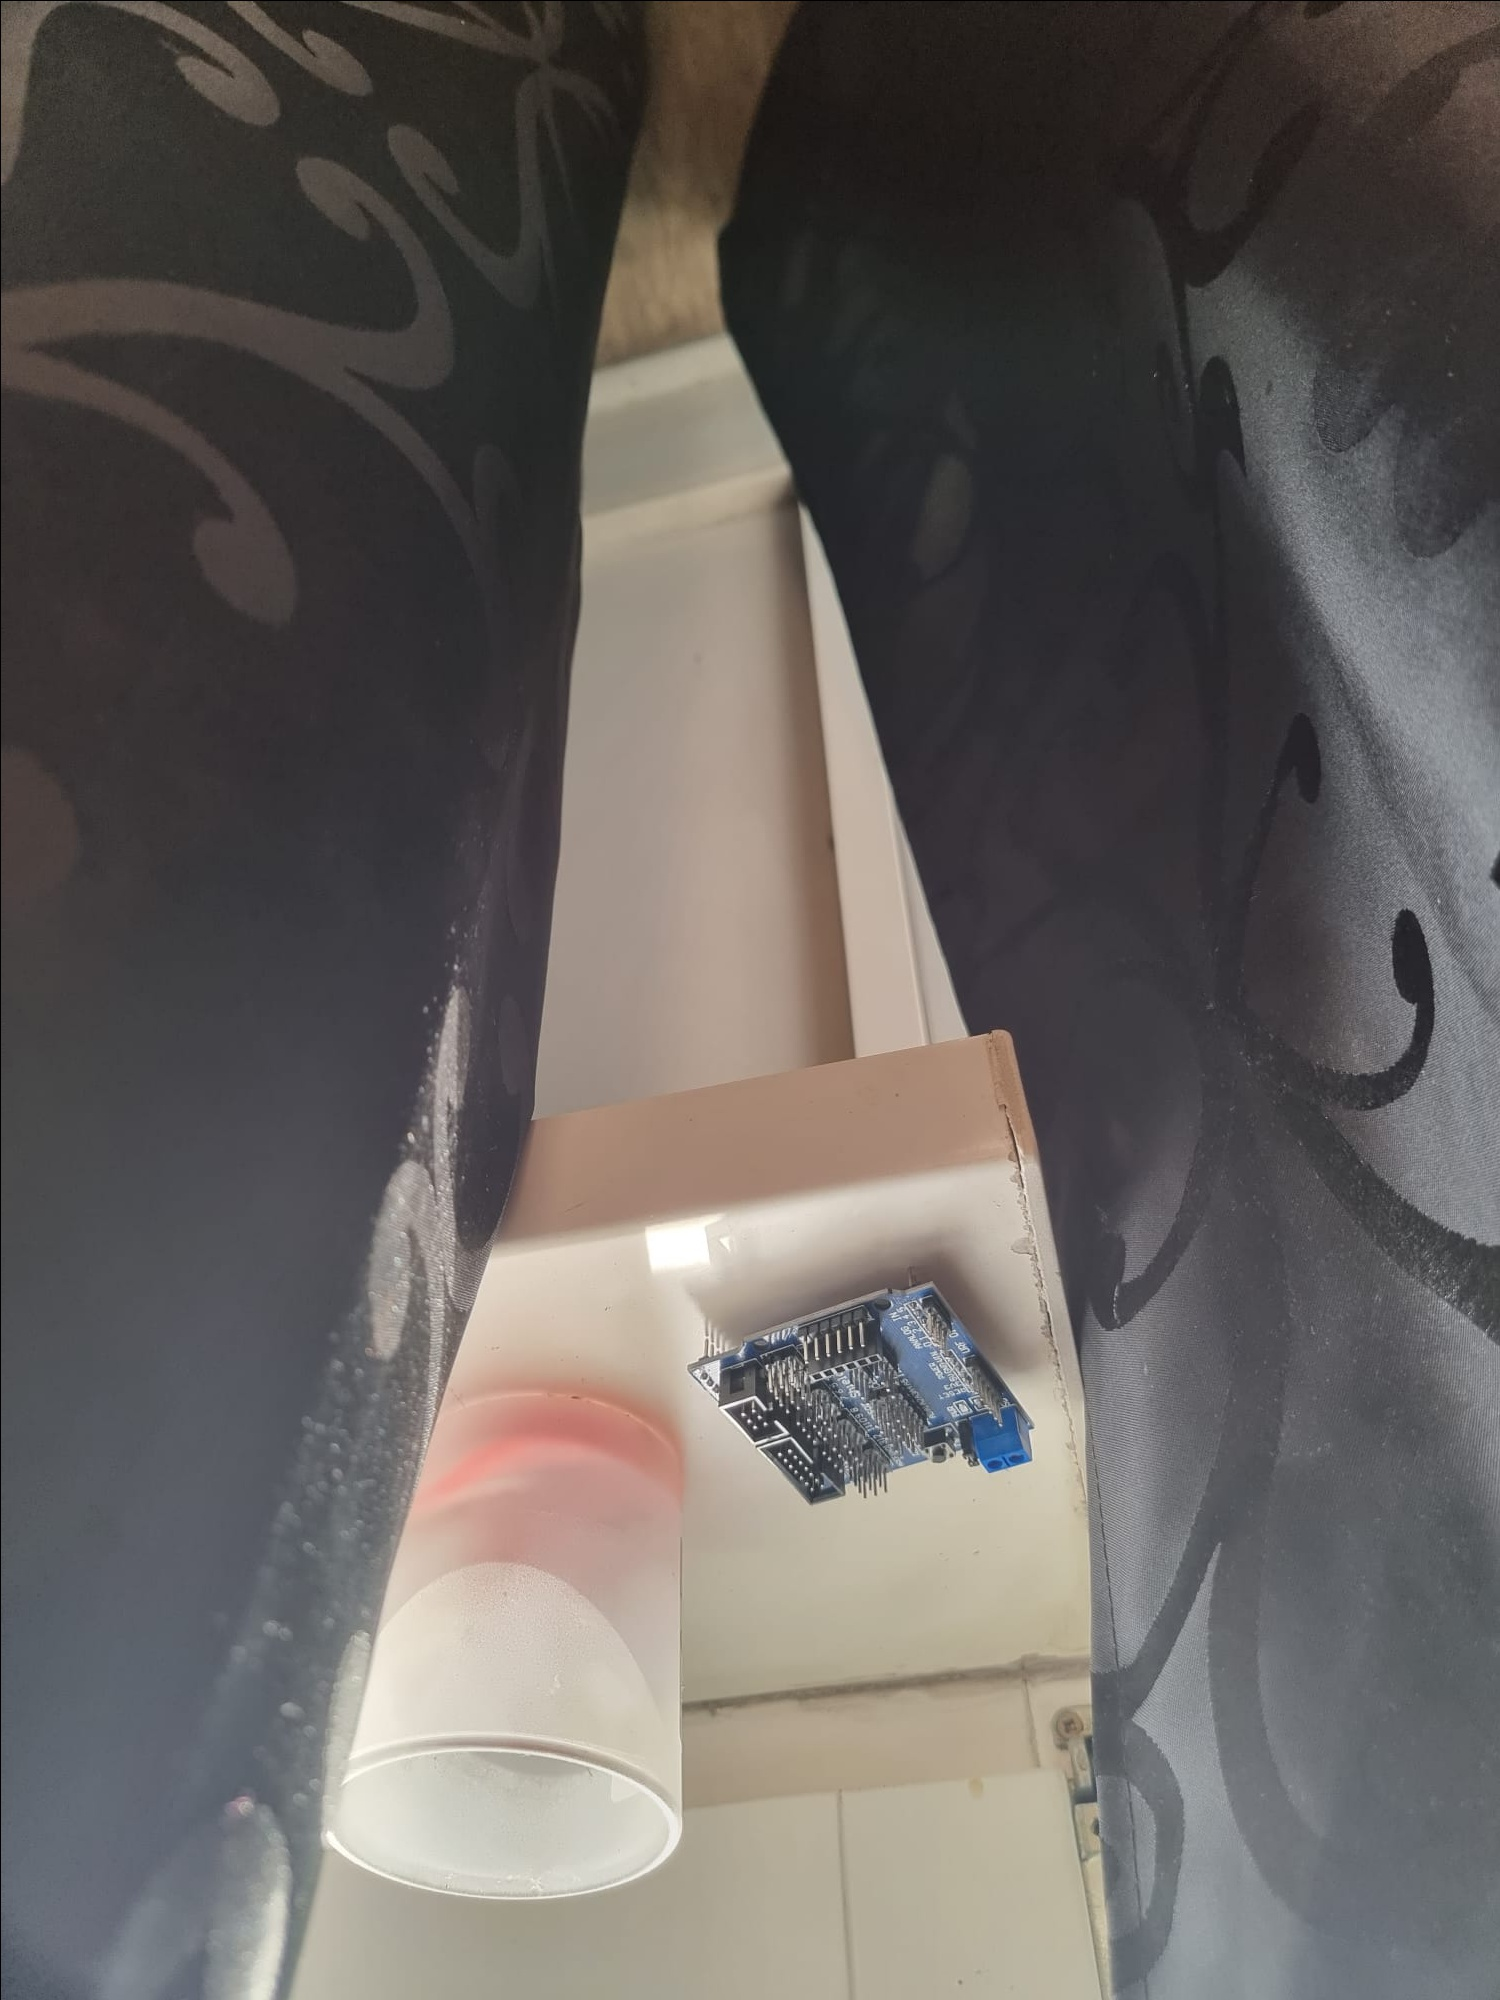5V EXPANSION: (684, 1265, 1045, 1502)
